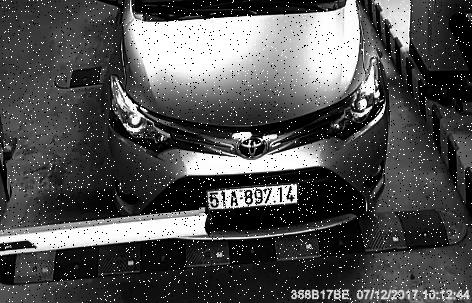License-plate: (201, 180, 317, 217)
